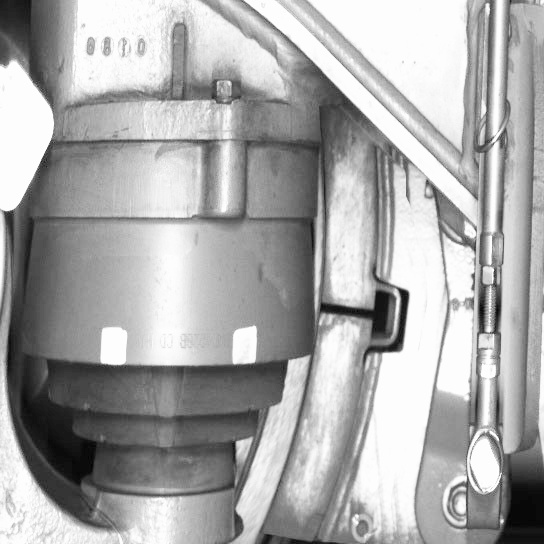ClosedKnifeSwitch: (252, 144, 378, 540)
